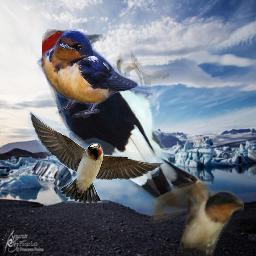Swallow: (28, 110, 164, 203), (37, 29, 153, 118), (150, 180, 244, 256)
Woodpecker: (42, 29, 214, 214)
